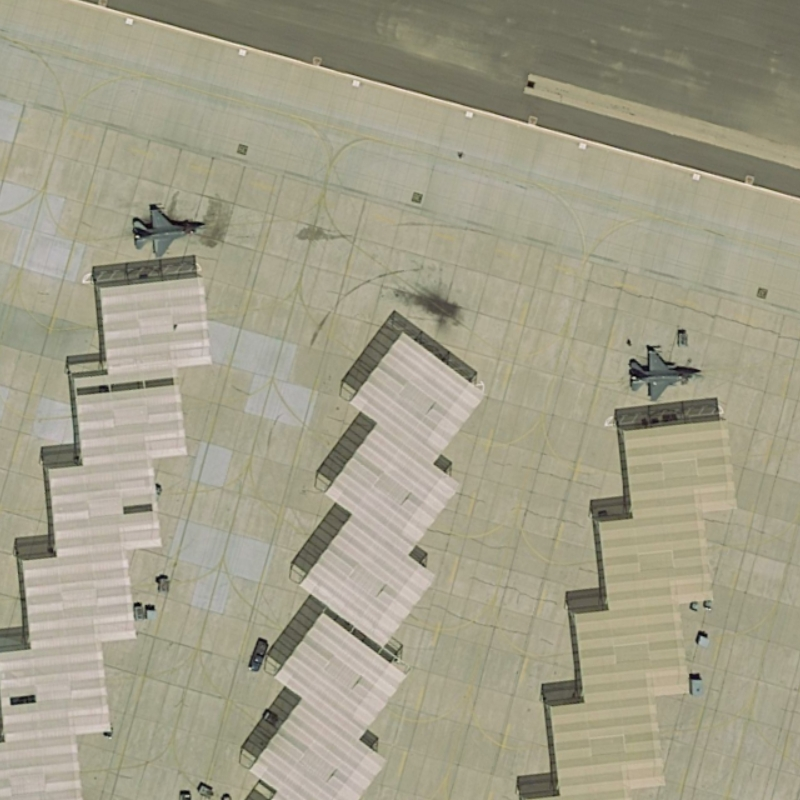A5: (621, 339, 709, 406), (127, 200, 210, 261)
